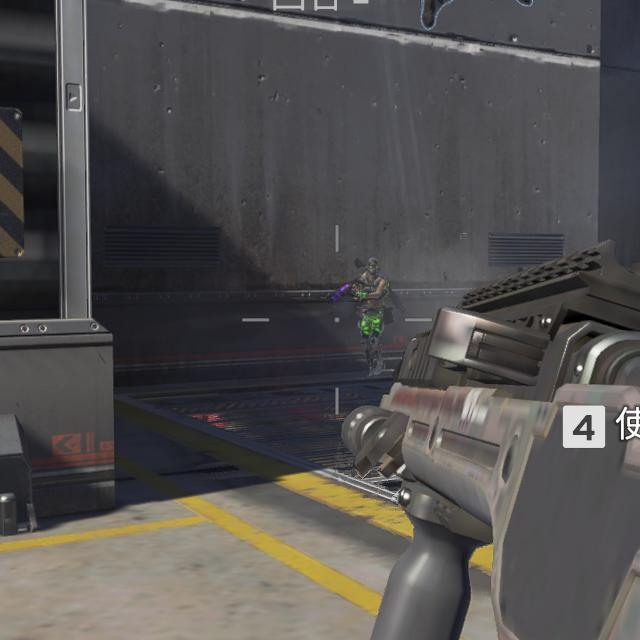avatar: (353, 258, 395, 376)
